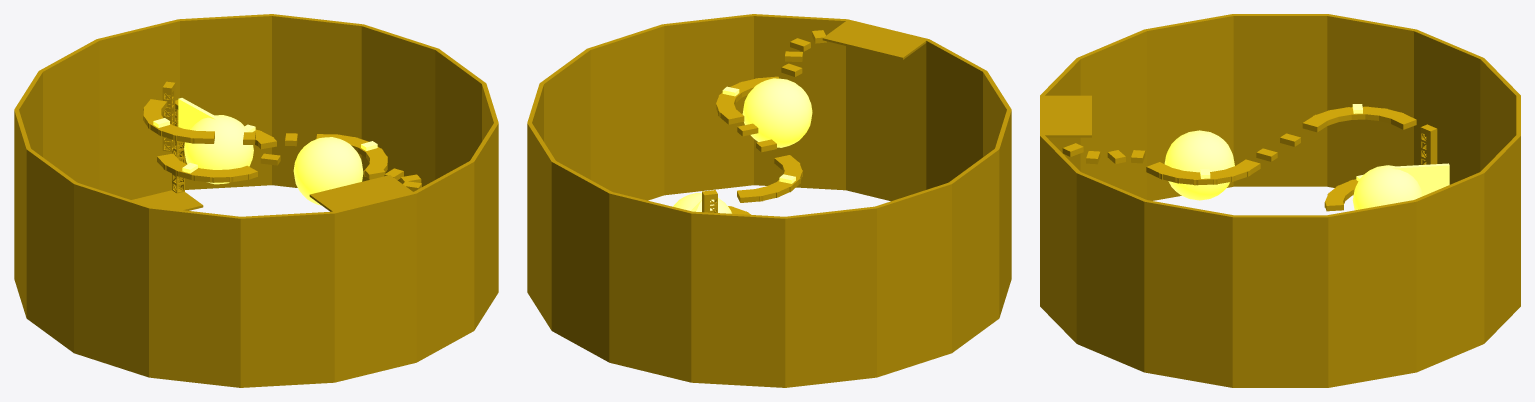
File: Stage_3.fbx
The picture shows the model from 3 angles, left to right: view 1: azimuth 30°, elevation 25°; view 2: azimuth 150°, elevation 25°; view 3: azimuth 270°, elevation 25°; orthographic projection.
Visible parts, largest first — view 1: stage_3, stage_3_deads, stage_3_ladders; view 2: stage_3, stage_3_deads; view 3: stage_3, stage_3_deads.
Boxes of the visible parts, <box> form: stage_3: <box>14,14,498,387</box>; stage_3_deads: <box>153,98,377,205</box>; stage_3_ladders: <box>162,89,184,193</box>; stage_3: <box>527,14,1011,387</box>; stage_3_deads: <box>673,78,812,213</box>; stage_3: <box>1040,14,1520,387</box>; stage_3_deads: <box>1164,104,1449,210</box>.
Bounding box in the file's own units: 102 × 102 × 40.
